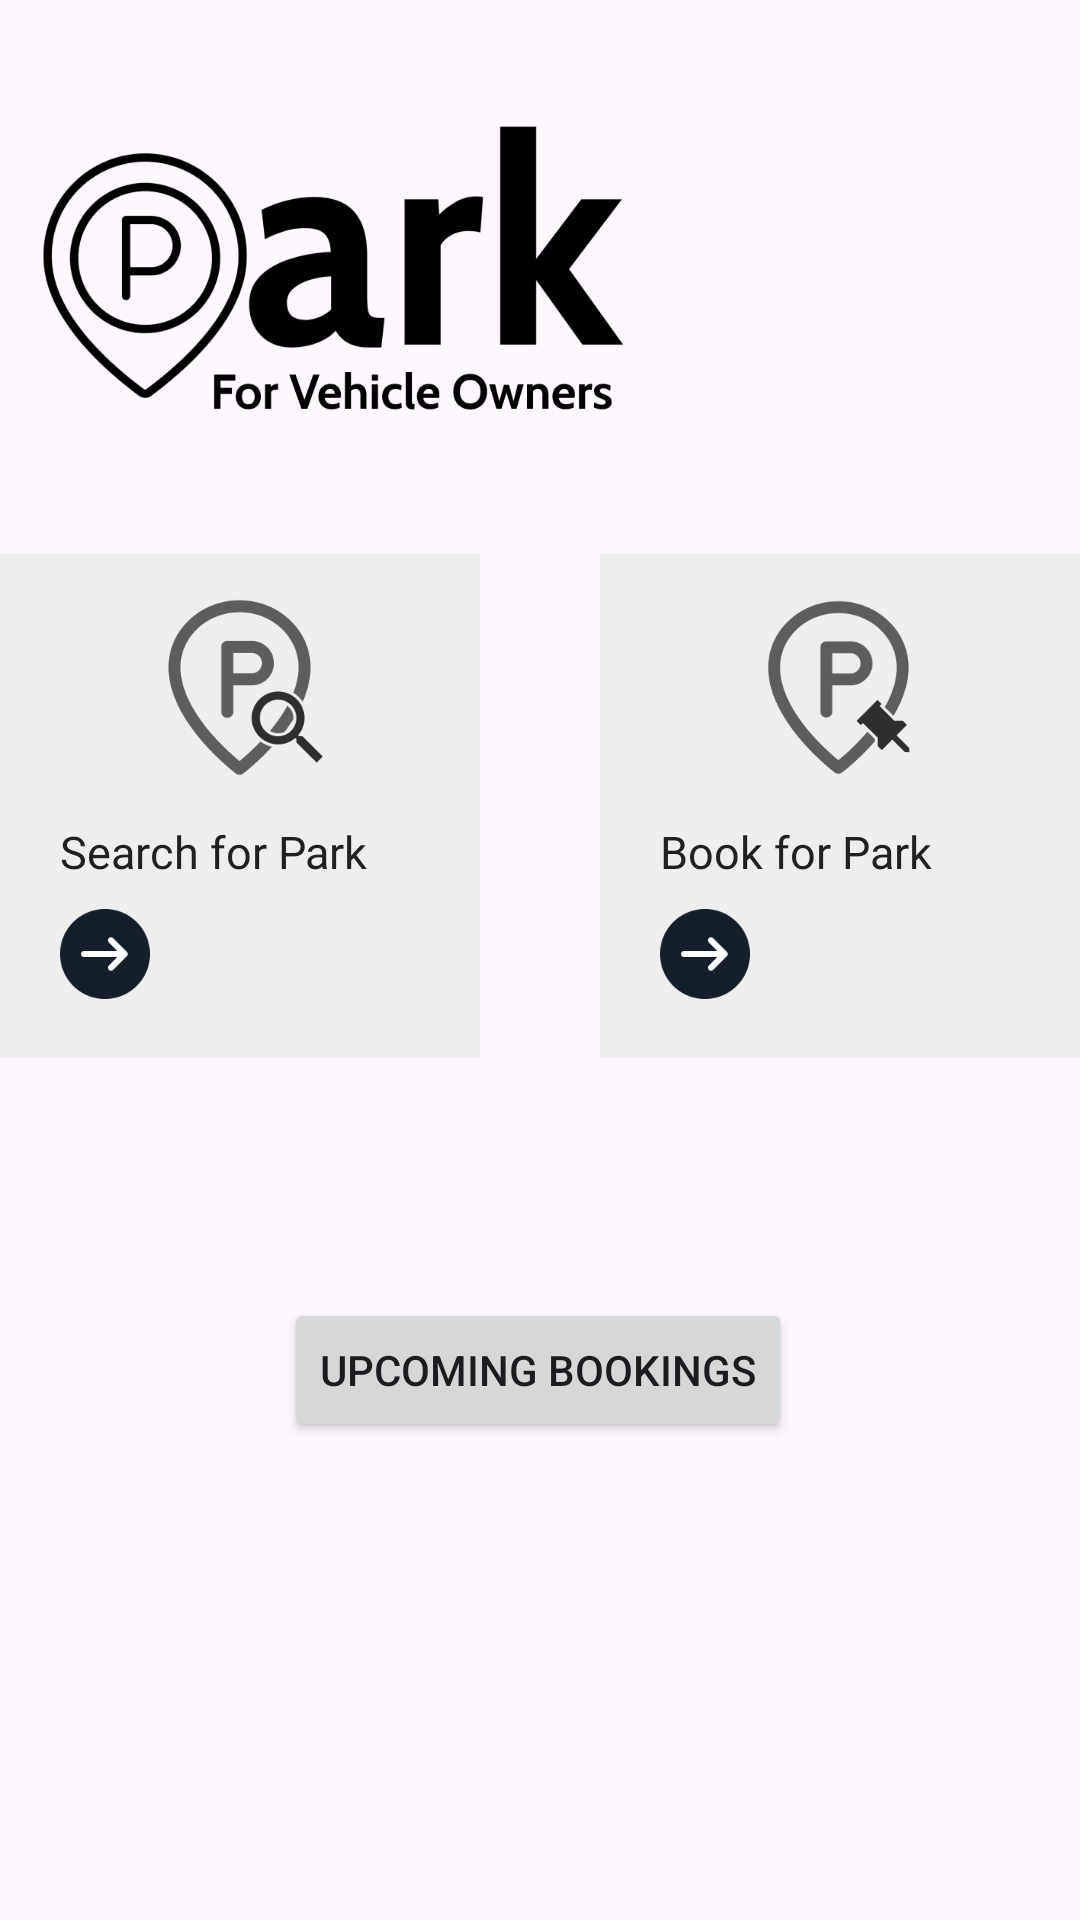

Icons on this 1080 x 1920 Android screen, each with its box as BBox(x1, y1, x2, y2):
right arrow: BBox(60, 909, 150, 999), BBox(660, 909, 750, 999)
